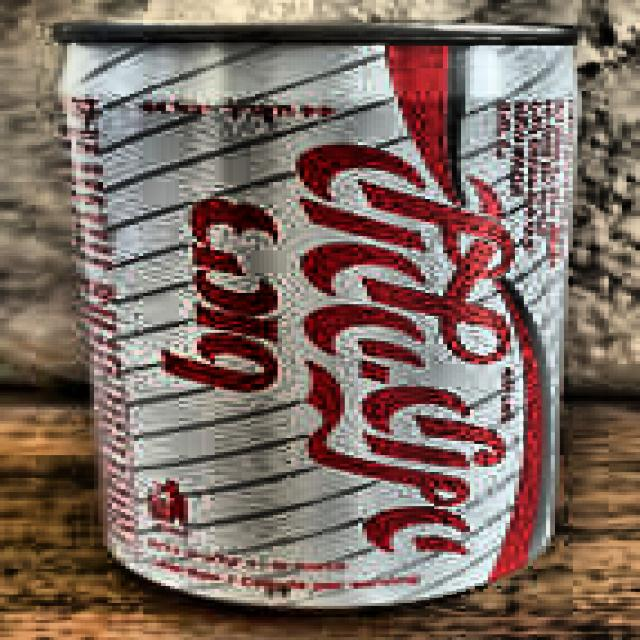Cans: (45, 19, 588, 608)
